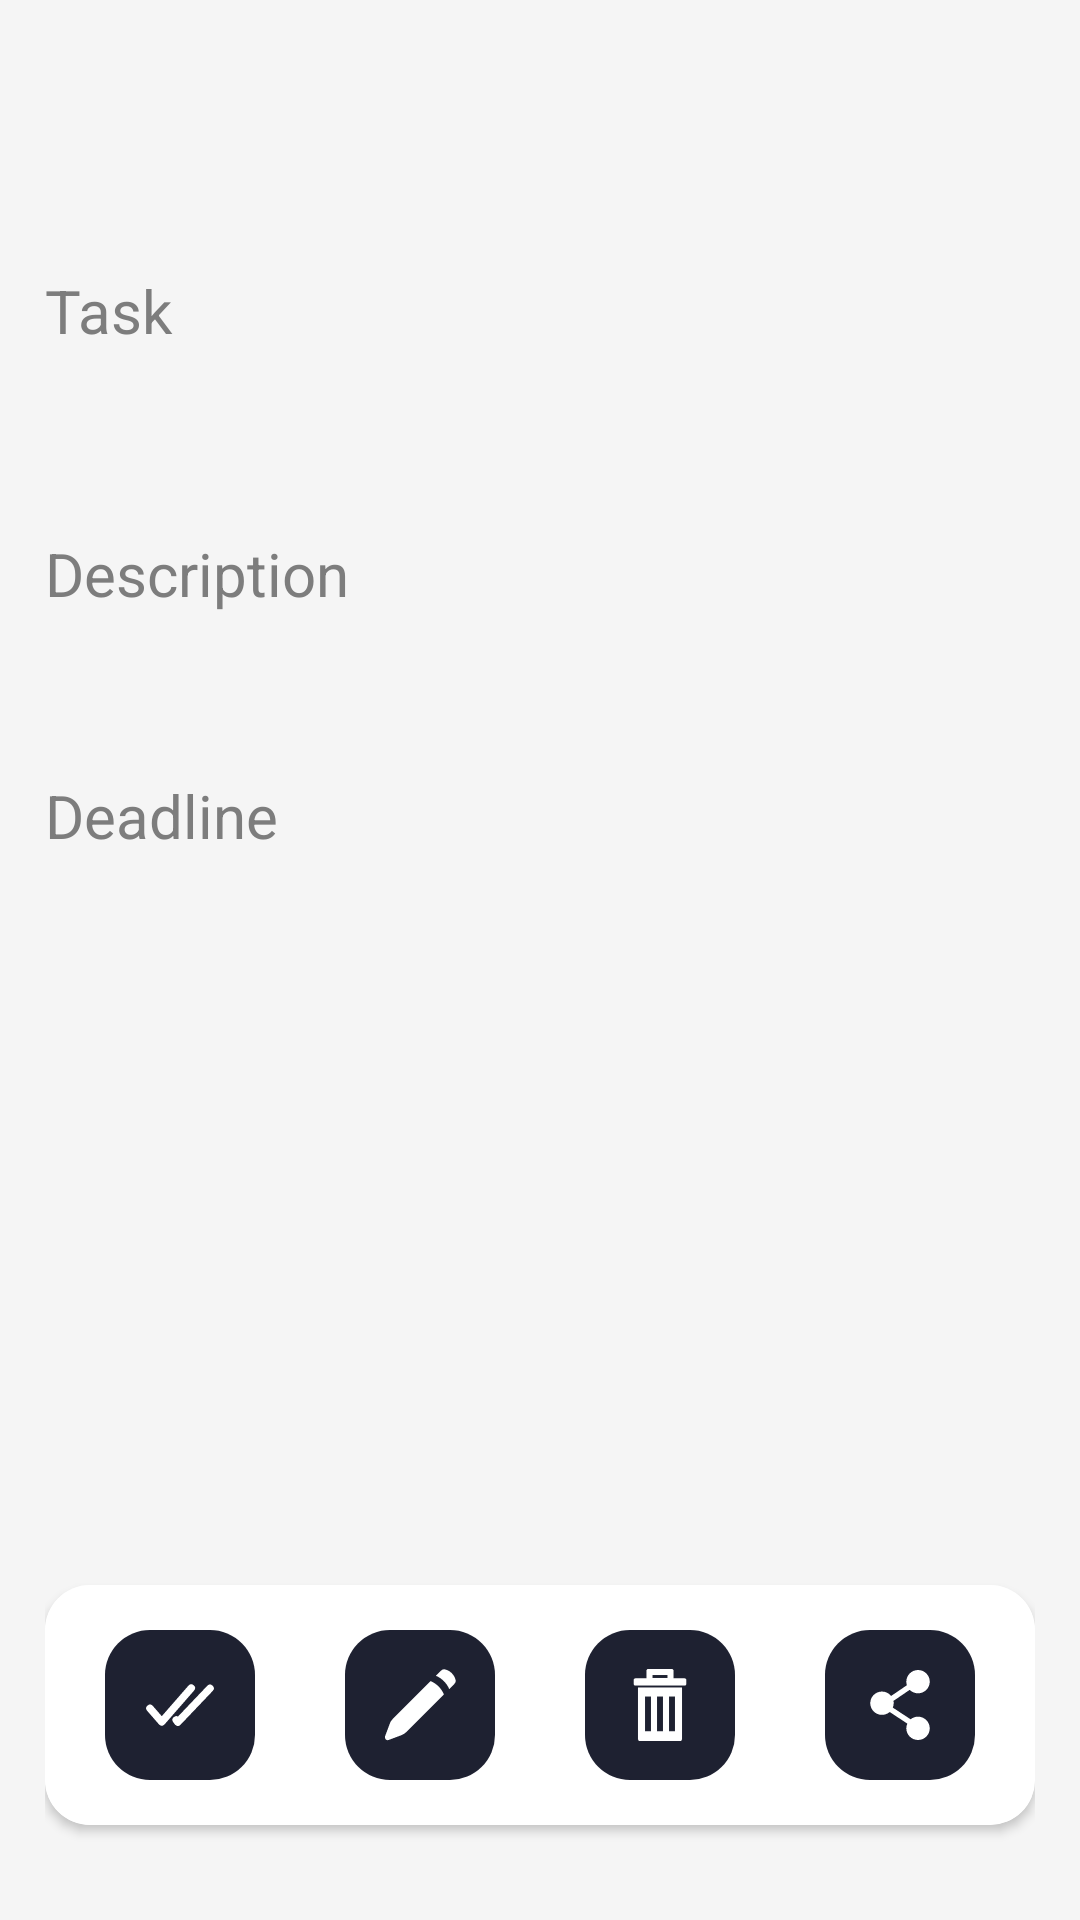

Icons on this 1080 × 1920 Android screen, each with its box as (x1, y1, x2, y2):
check: (105, 1630, 255, 1780)
delete: (585, 1630, 735, 1780)
edit: (345, 1630, 495, 1780)
share: (825, 1630, 975, 1780)
